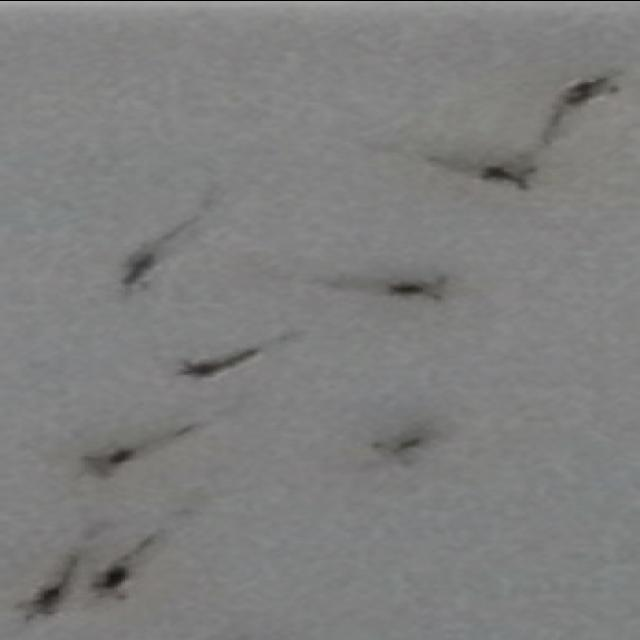shrimp-seed: (178, 344, 260, 379), (378, 271, 454, 305), (556, 70, 620, 110), (474, 158, 538, 194), (368, 434, 431, 470), (87, 562, 137, 604), (118, 247, 162, 294), (12, 588, 69, 624), (79, 444, 135, 479)
